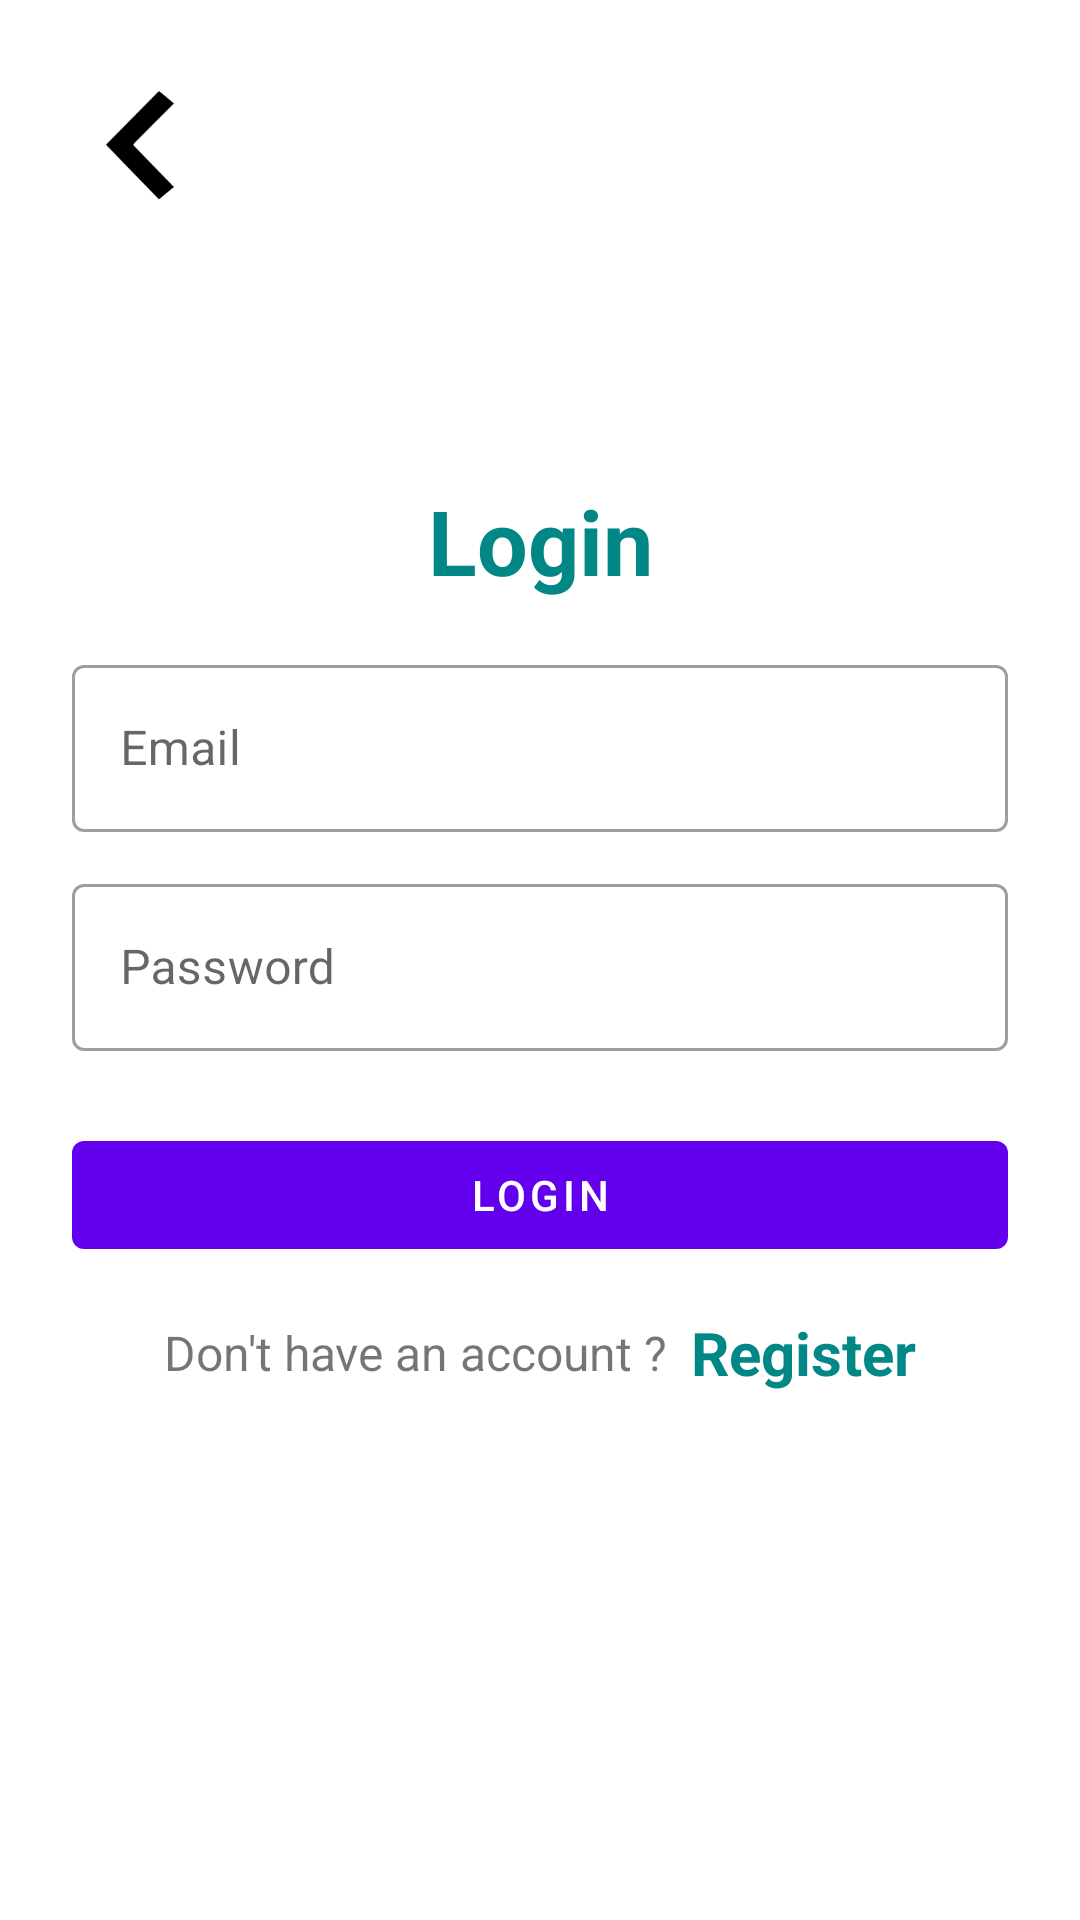

Where icons sit on this 1080 × 1920 app screen, as detection(x1, y1, x2, y2):
back: detection(106, 91, 174, 199)
